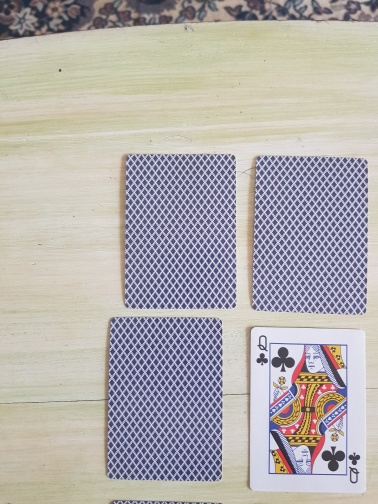queen: (248, 326, 367, 494)
